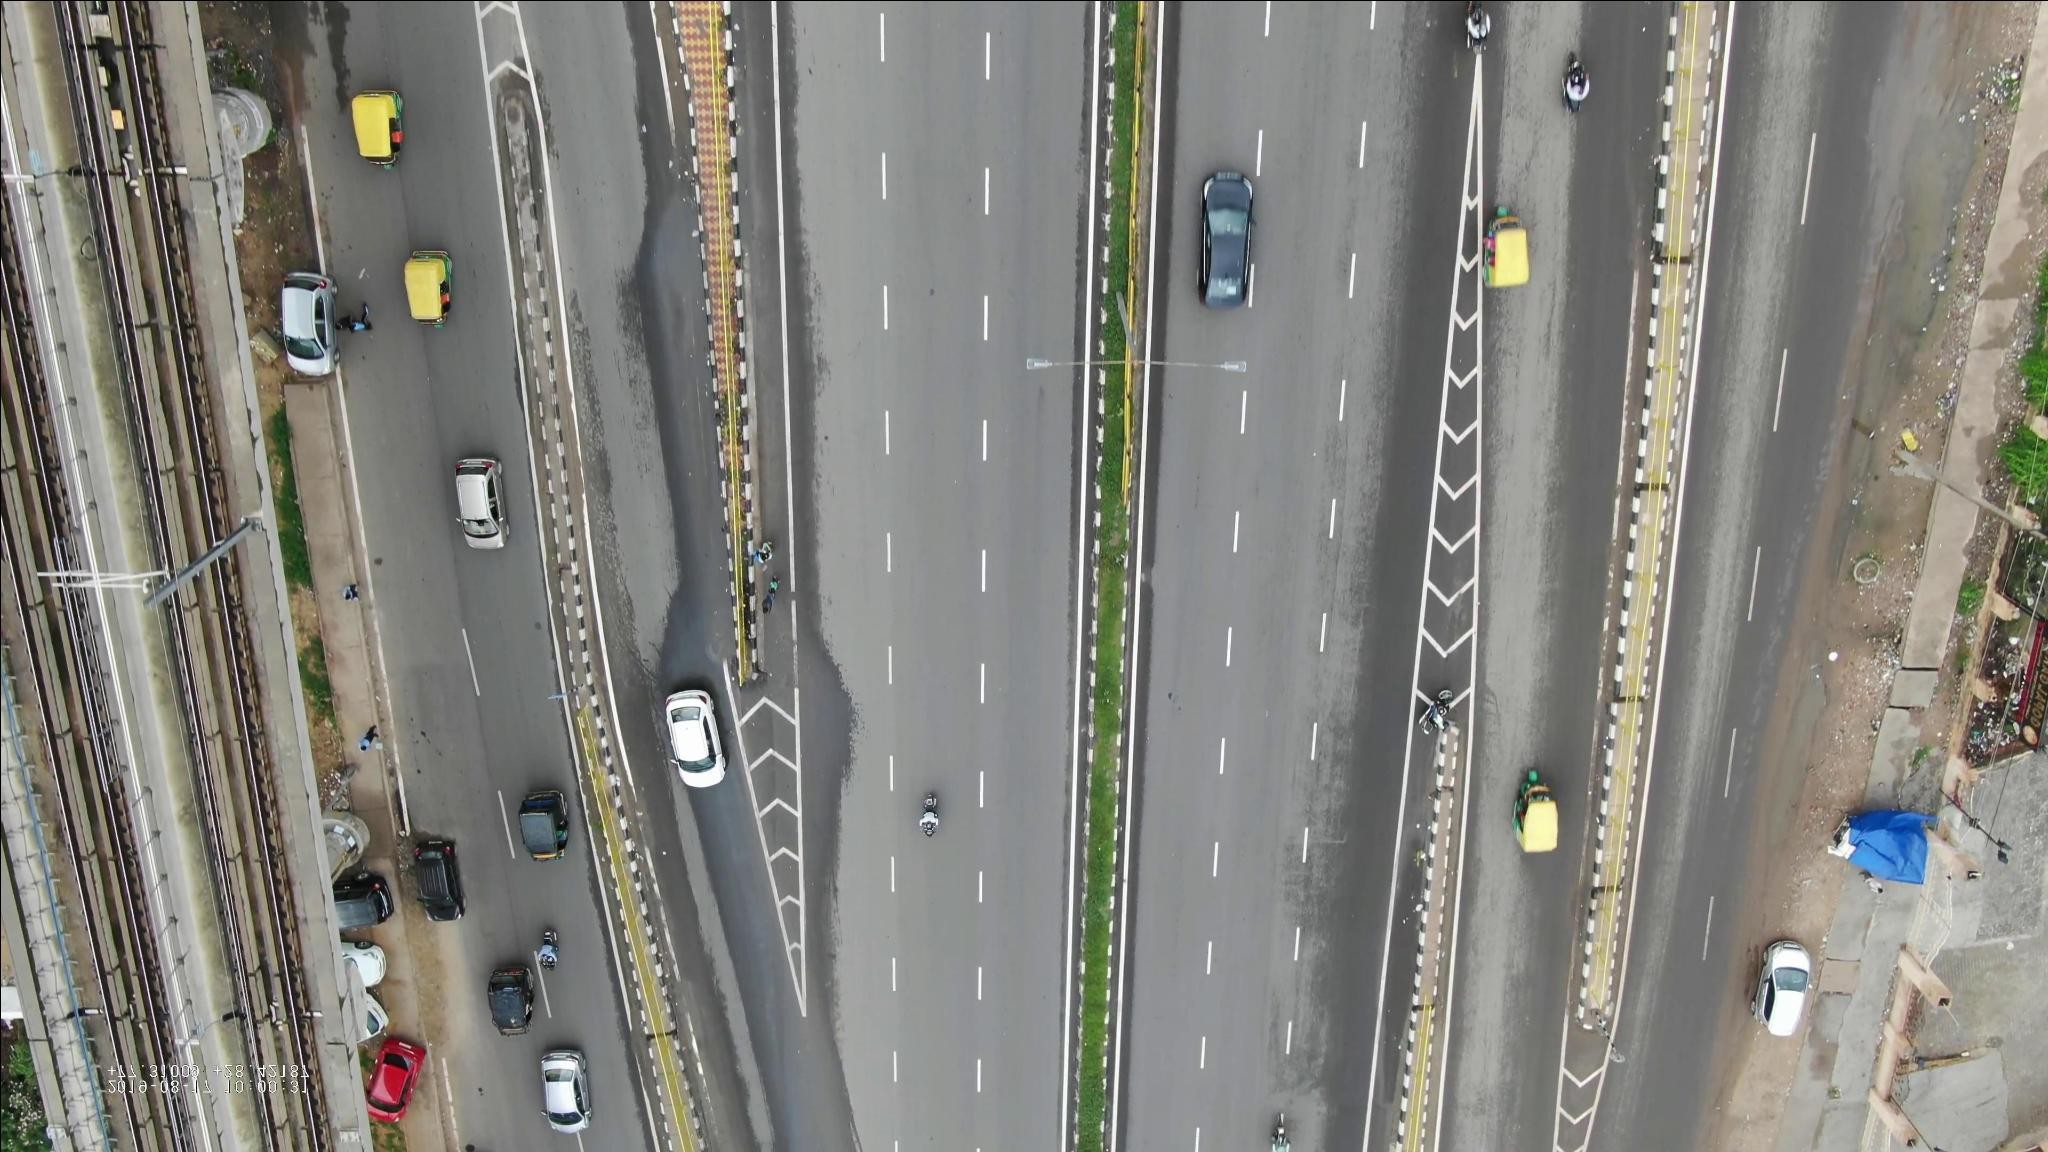Waterlogging: (1861, 146, 1959, 419), (1373, 824, 1428, 1122), (1767, 677, 1833, 838), (643, 197, 708, 307)
